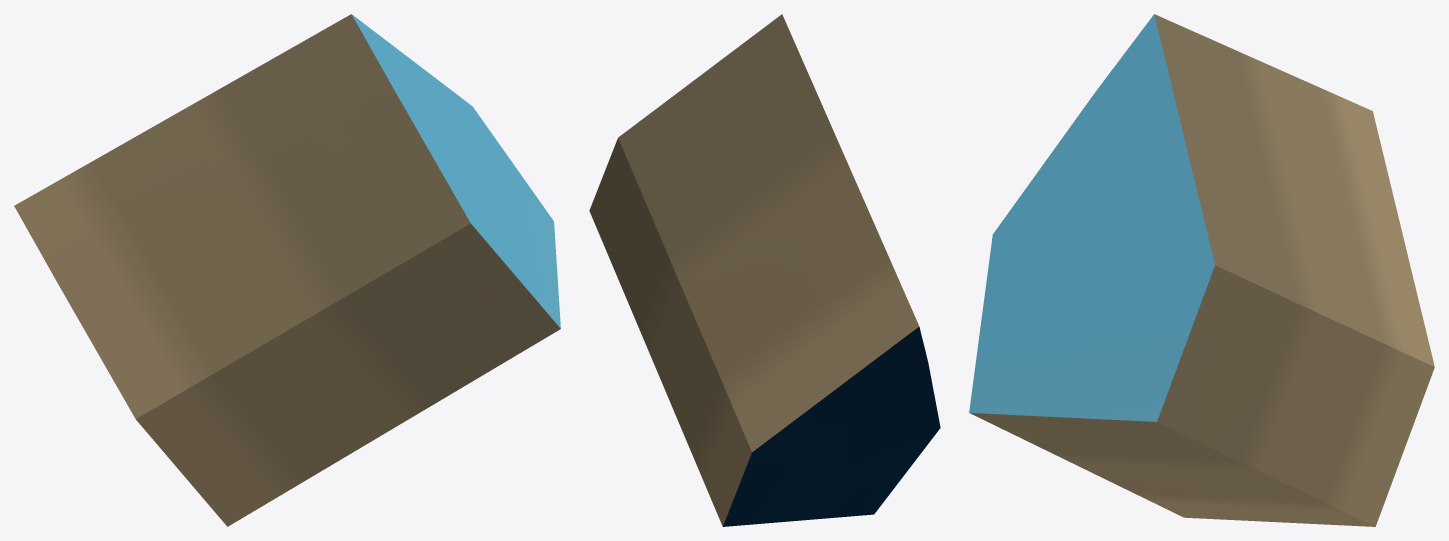
File: 0619_Kuwait.glb
3 views of the same model, side by side, from view 1: azimuth 30°, elevation 25°; view 2: azimuth 150°, elevation 25°; view 3: azimuth 270°, elevation 25° (orthographic). The views are drawn at different scales.
Parts seen in each view (by area): view 1: part_0; view 2: part_0; view 3: part_0.
Boxes of the visible parts, box(x1,y1,x2,y2) form: part_0: box(14, 14, 560, 526); part_0: box(589, 14, 940, 526); part_0: box(969, 14, 1434, 526).
Bounding box in the file's own units: 0.2535 × 0.2694 × 0.2012.
1 material, 1 textured.
